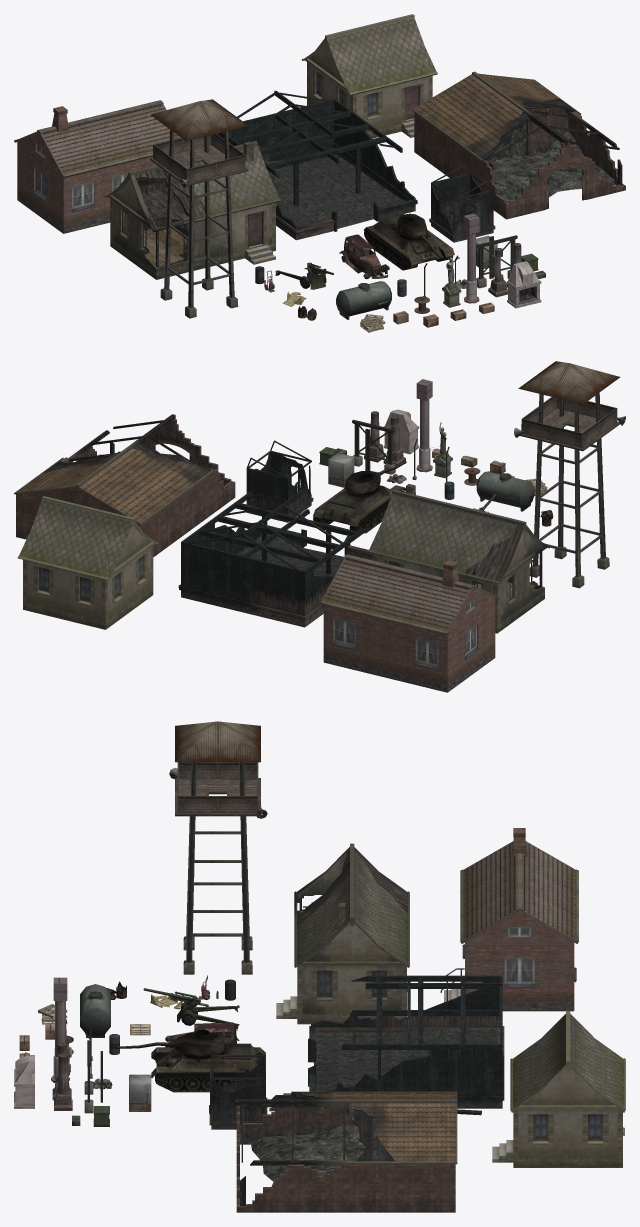
File: furniture_b.fbx
3 views of the same model, one above another, from view 1: azimuth 30°, elevation 25°; view 2: azimuth 150°, elevation 25°; view 3: azimuth 270°, elevation 25° (orthographic). The views are drawn at different scales.
Visible parts, largest first — view 1: bombed_farm_buildings, burned_out_stable, small_bombed_farm_building, double_room_building, single_room_building, guard_tower, burned_out_shed, damaged_tank, cylinder_c, destroyed_car, structurale_d, structural_h (+3 smaller); view 2: double_room_building, burned_out_stable, bombed_farm_buildings, single_room_building, small_bombed_farm_building, guard_tower, burned_out_shed, damaged_tank, cylinder_c, structural_h, structural_b, structurale_d (+3 smaller); view 3: bombed_farm_buildings, burned_out_stable, double_room_building, small_bombed_farm_building, single_room_building, guard_tower, damaged_tank, burned_out_shed, cylinder_c, artillery_gun, structurale_d, structural_h (+3 smaller).
Boxes of the visible parts, <box> form: bombed_farm_buildings: <box>412,71,625,219</box>; burned_out_stable: <box>217,90,417,240</box>; small_bombed_farm_building: <box>105,141,281,279</box>; double_room_building: <box>14,100,180,233</box>; single_room_building: <box>301,14,437,138</box>; guard_tower: <box>150,99,248,318</box>; burned_out_shed: <box>429,163,495,242</box>; damaged_tank: <box>364,213,454,270</box>; cylinder_c: <box>336,281,391,319</box>; destroyed_car: <box>339,234,389,279</box>; structurale_d: <box>507,261,541,308</box>; structural_h: <box>463,213,479,303</box>; double_room_building: <box>320,554,498,692</box>; burned_out_stable: <box>178,490,373,627</box>; bombed_farm_buildings: <box>14,414,235,557</box>; single_room_building: <box>17,496,158,629</box>; small_bombed_farm_building: <box>368,484,550,633</box>; guard_tower: <box>514,361,625,588</box>; burned_out_shed: <box>246,440,313,522</box>; damaged_tank: <box>313,460,406,533</box>; cylinder_c: <box>476,471,534,511</box>; structural_h: <box>416,379,432,472</box>; structural_b: <box>352,419,395,474</box>; structurale_d: <box>383,409,419,454</box>; bombed_farm_buildings: <box>235,1091,457,1212</box>; burned_out_stable: <box>308,975,504,1115</box>; double_room_building: <box>440,828,578,1011</box>; small_bombed_farm_building: <box>276,843,409,1024</box>; single_room_building: <box>492,1010,625,1167</box>; guard_tower: <box>169,721,267,974</box>; damaged_tank: <box>116,1029,265,1092</box>; burned_out_shed: <box>209,1055,267,1129</box>; cylinder_c: <box>80,984,110,1037</box>; artillery_gun: <box>143,988,239,1030</box>; structurale_d: <box>14,1055,34,1108</box>; structural_h: <box>51,977,69,1082</box>.
Size of the model in its own units: 5036 by 2054 by 4757.
Materials: 37 (37 with a texture image).
